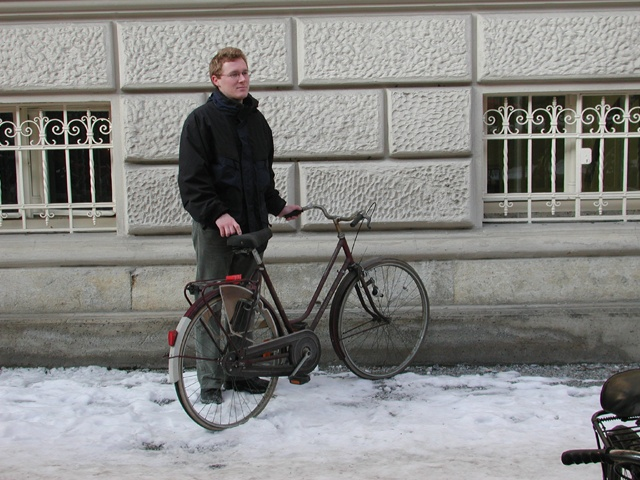person: (182, 49, 275, 402)
